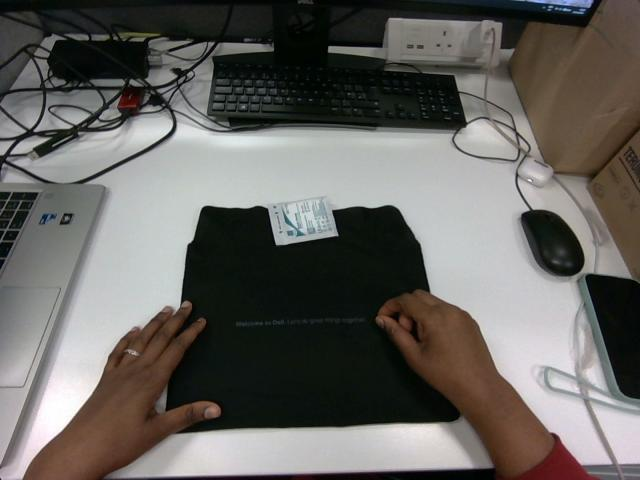gauze: (268, 197, 338, 244)
